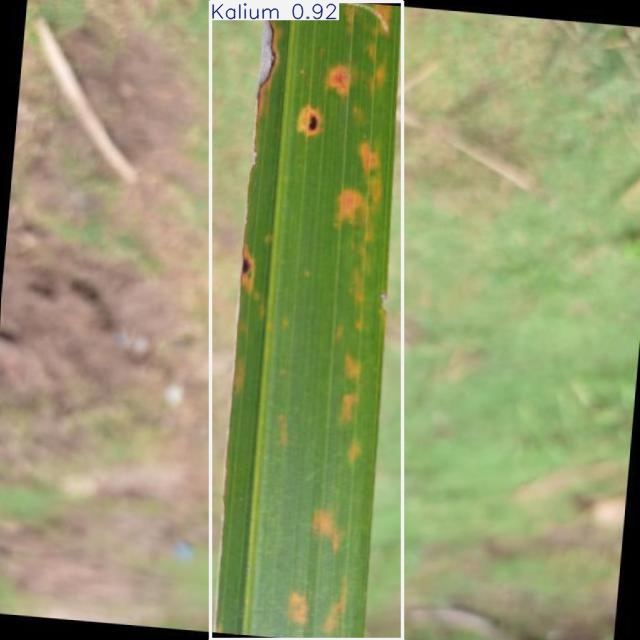Kalium: (211, 1, 403, 640)
